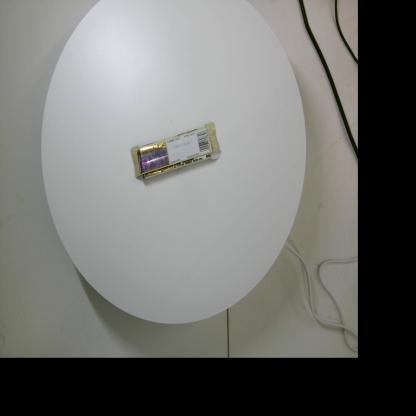Chocolate: (130, 122, 220, 182)
